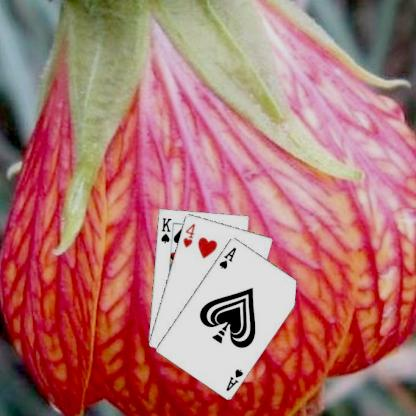4H: (180, 221, 196, 249)
AS: (223, 366, 245, 392), (217, 244, 237, 270)
KS: (158, 214, 173, 244)
